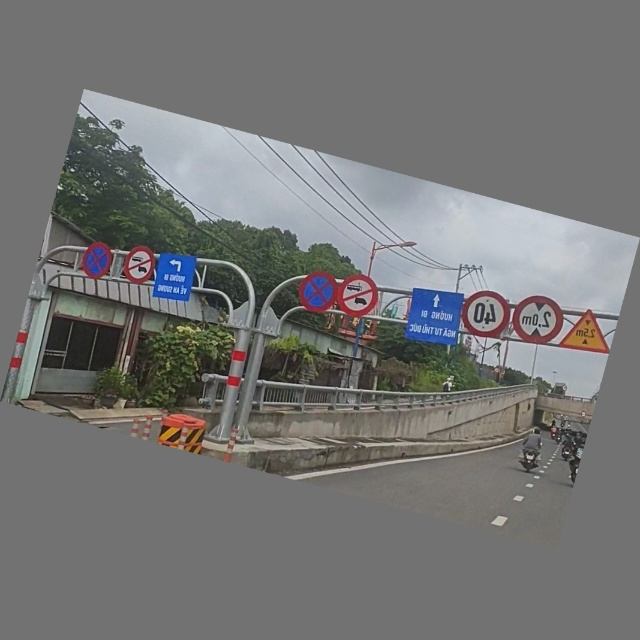P.107: (331, 269, 385, 324), (118, 242, 160, 290)
P.117*: (507, 290, 567, 351)
P.127*40: (456, 284, 516, 346)
P.130: (293, 266, 340, 319), (77, 239, 116, 285)
W.239b*: (556, 303, 618, 363)
